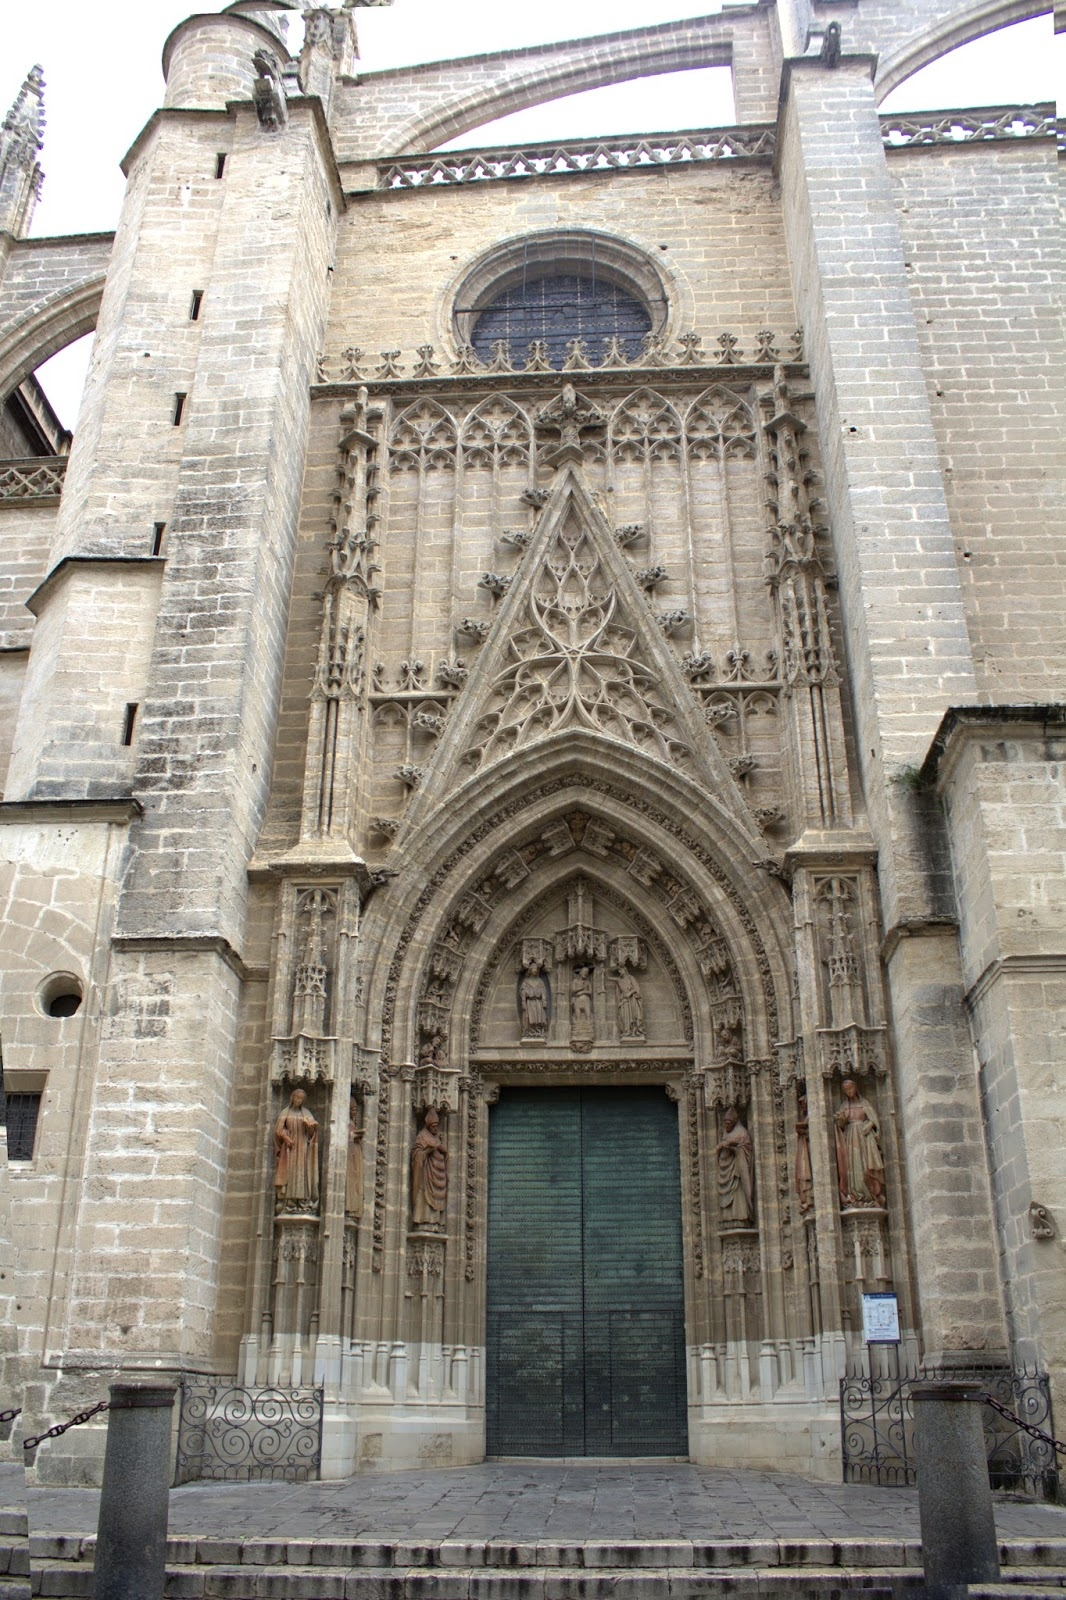arco-apuntado: (369, 721, 782, 1040)
